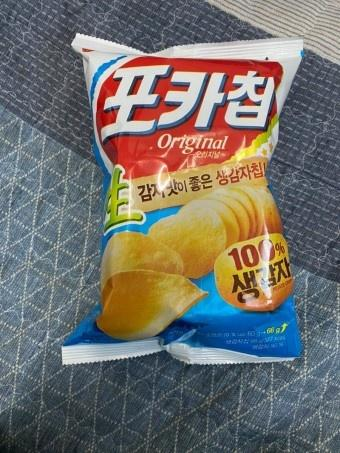snack: (62, 29, 308, 366)
